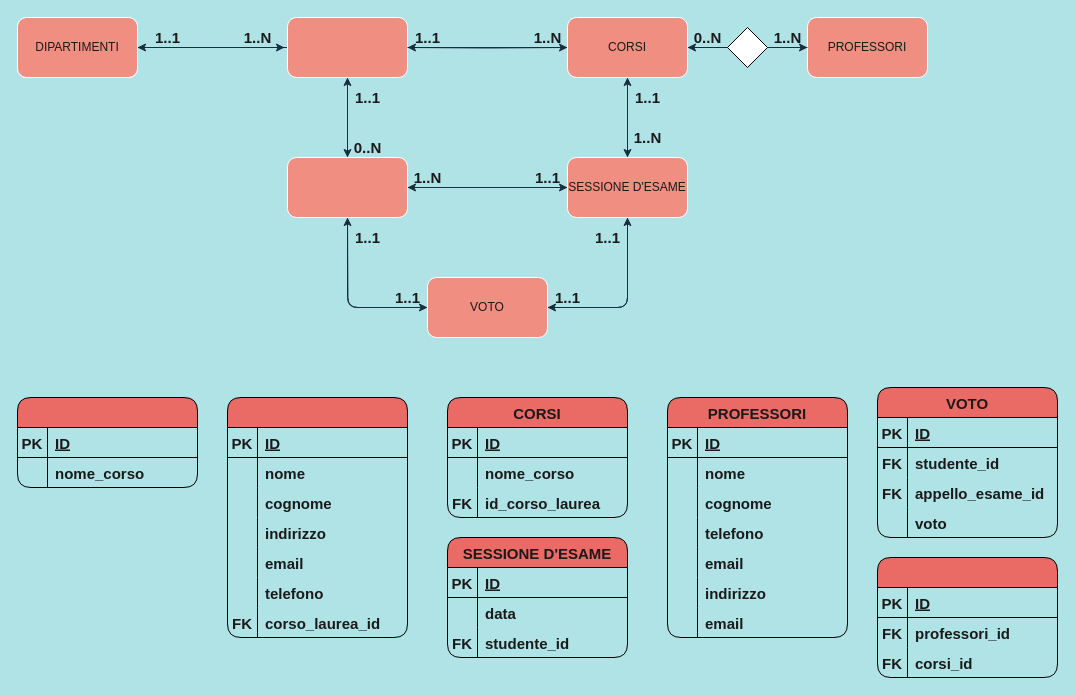
Image size: 1075x695. Some labels were removed from this diagram. Each missing label, with the box of its shape:
CORSI DI LAUREA: (286, 16, 408, 78)
CORSI-PROFESSORI: (876, 556, 1058, 678)
CORSO DI LAUREA: (16, 396, 198, 488)
STUDENTE: (286, 156, 408, 218)
STUDENTI: (226, 396, 408, 638)
